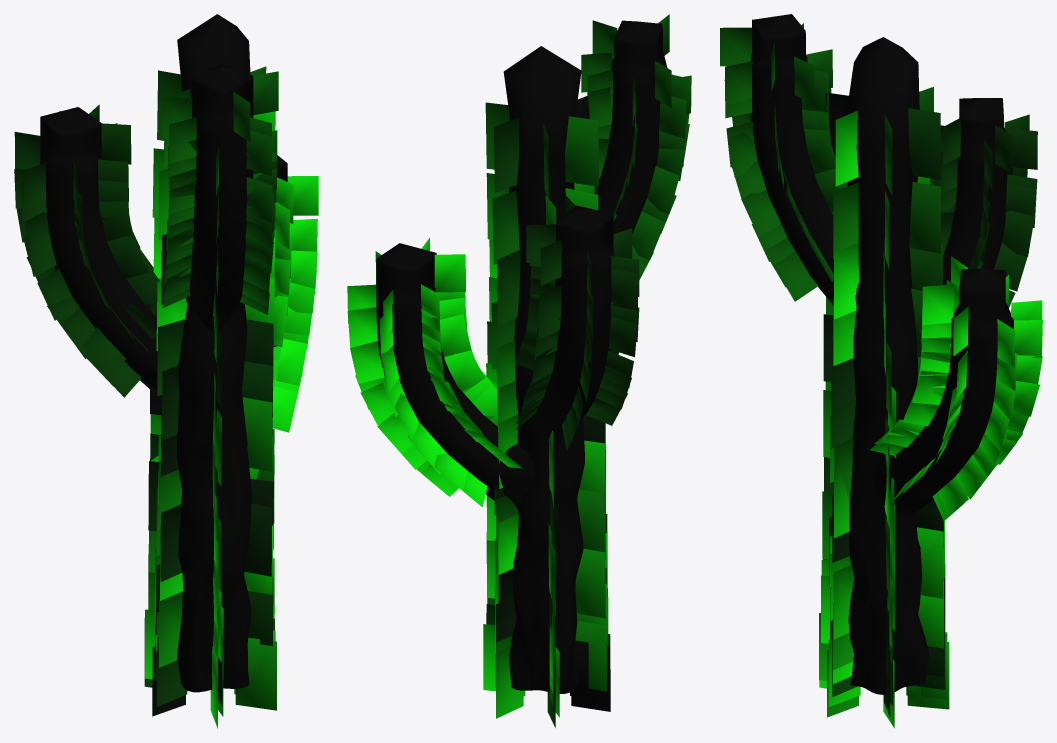
The model's file is Cactus_1_4.fbx.
The picture shows the model from 3 angles, left to right: view 1: azimuth 30°, elevation 25°; view 2: azimuth 150°, elevation 25°; view 3: azimuth 270°, elevation 25°; orthographic projection. The views are drawn at different scales.
Visible parts, largest first — view 1: Cactus_1_4; view 2: Cactus_1_4; view 3: Cactus_1_4.
Part boxes in pixels (x1,y1,x2,y2): Cactus_1_4: (14,14,318,728); Cactus_1_4: (347,14,691,727); Cactus_1_4: (720,14,1042,728).
Bounding box in the file's own units: 152 × 346 × 152.
